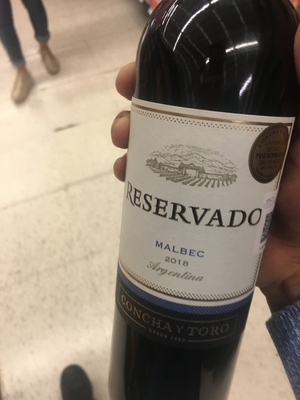reservado malbec: (116, 4, 300, 384)
